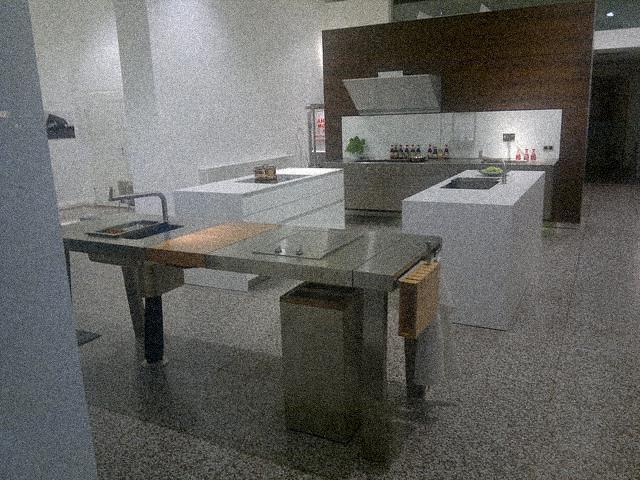Bote de Basura: (275, 282, 367, 442)
Lavaplatos: (76, 177, 185, 258), (436, 152, 519, 206)
